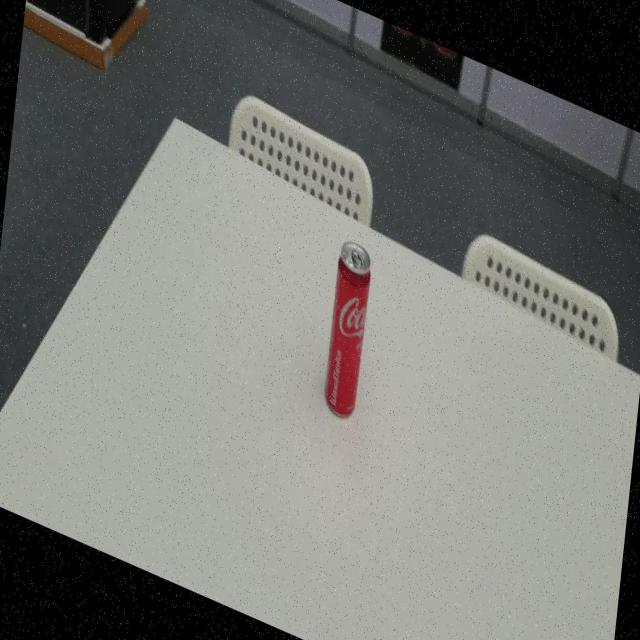coca-cola: (320, 233, 375, 430)
